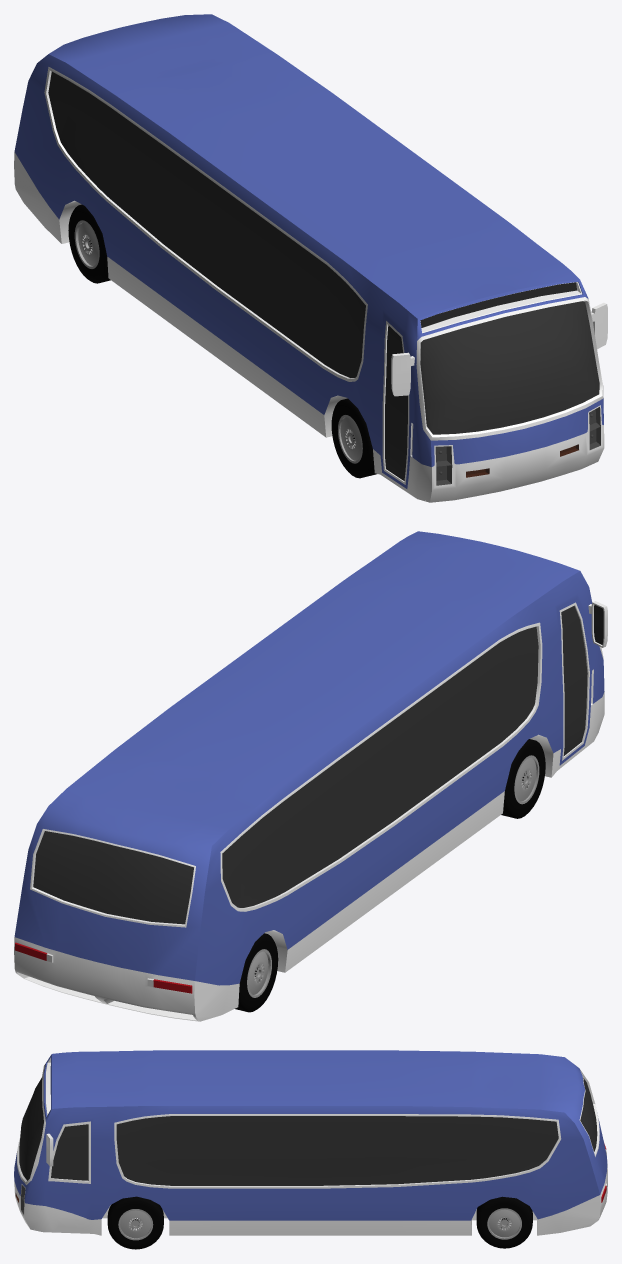
The model's file is Bus.fbx.
The picture shows the model from 3 angles, top to bottom: view 1: azimuth 30°, elevation 25°; view 2: azimuth 150°, elevation 25°; view 3: azimuth 270°, elevation 25°; orthographic projection. The views are drawn at different scales.
Visible parts, largest first — view 1: BusBody, Wheel.002, Wheel.003; view 2: BusBody, Wheel.002, Wheel.003; view 3: BusBody, Wheel.001, Wheel.
Boxes of the visible parts, x1=… form: BusBody: x1=14, y1=14, x2=607, y2=502; Wheel.002: x1=331, y1=398, x2=376, y2=478; Wheel.003: x1=68, y1=204, x2=110, y2=283; BusBody: x1=14, y1=531, x2=607, y2=1021; Wheel.002: x1=501, y1=739, x2=545, y2=818; Wheel.003: x1=235, y1=933, x2=278, y2=1012; BusBody: x1=14, y1=1050, x2=607, y2=1235; Wheel.001: x1=107, y1=1196, x2=163, y2=1249; Wheel: x1=476, y1=1196, x2=532, y2=1248.
Size of the model in its own units: 764 by 698 by 2622.
